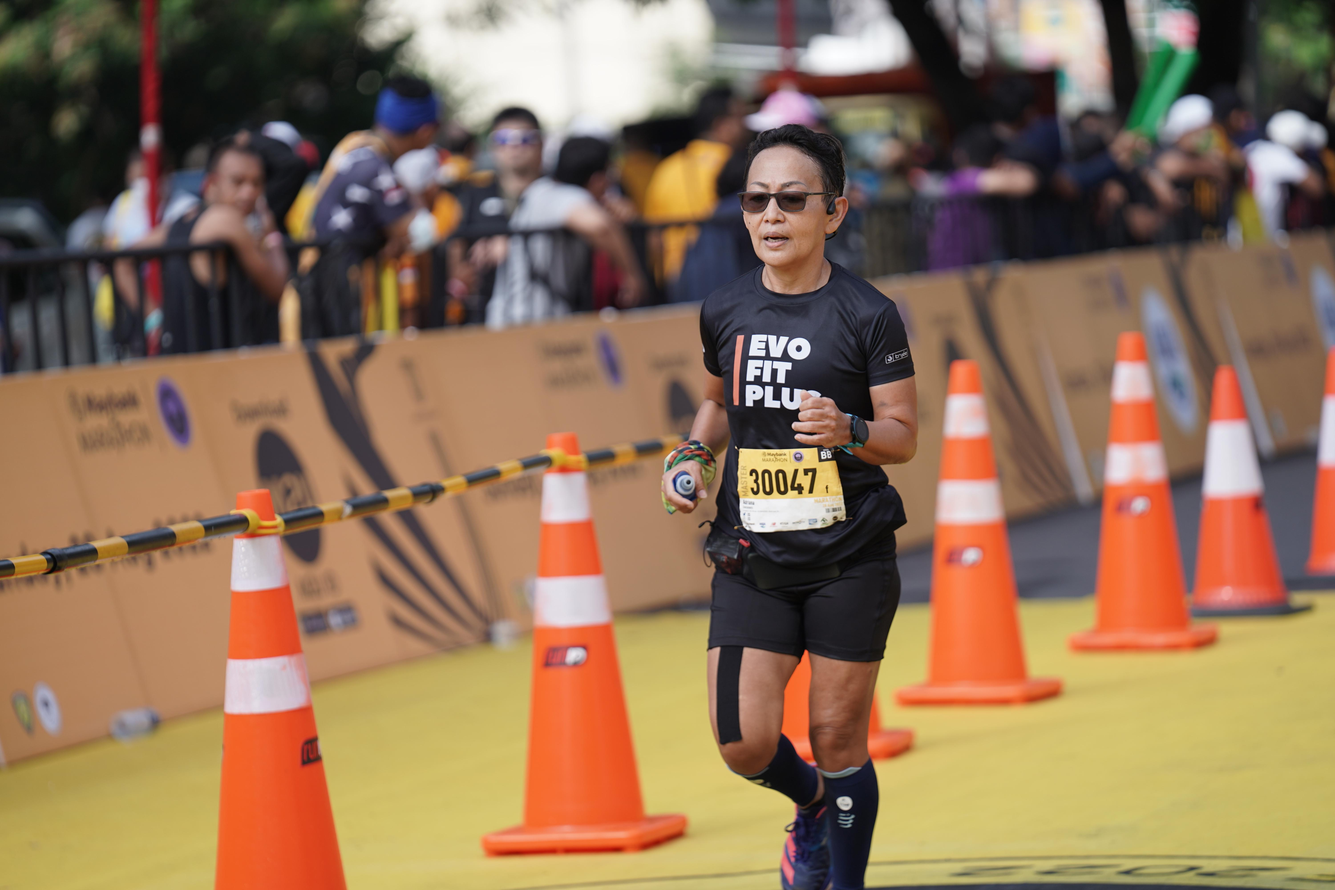bib: (735, 448, 847, 535)
